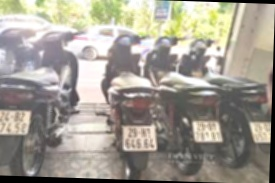Bien-so: (3, 115, 45, 139), (135, 127, 172, 154), (204, 123, 238, 146), (263, 124, 275, 145)
